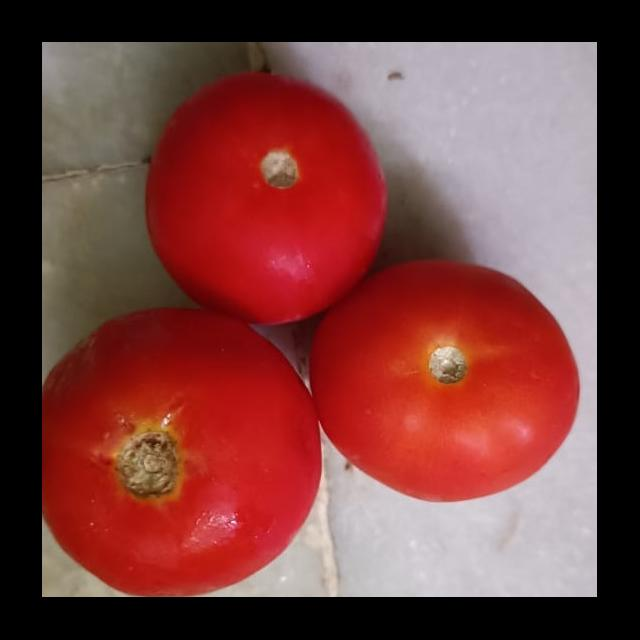tomato: (57, 300, 322, 594), (99, 60, 395, 318), (327, 248, 573, 511)
